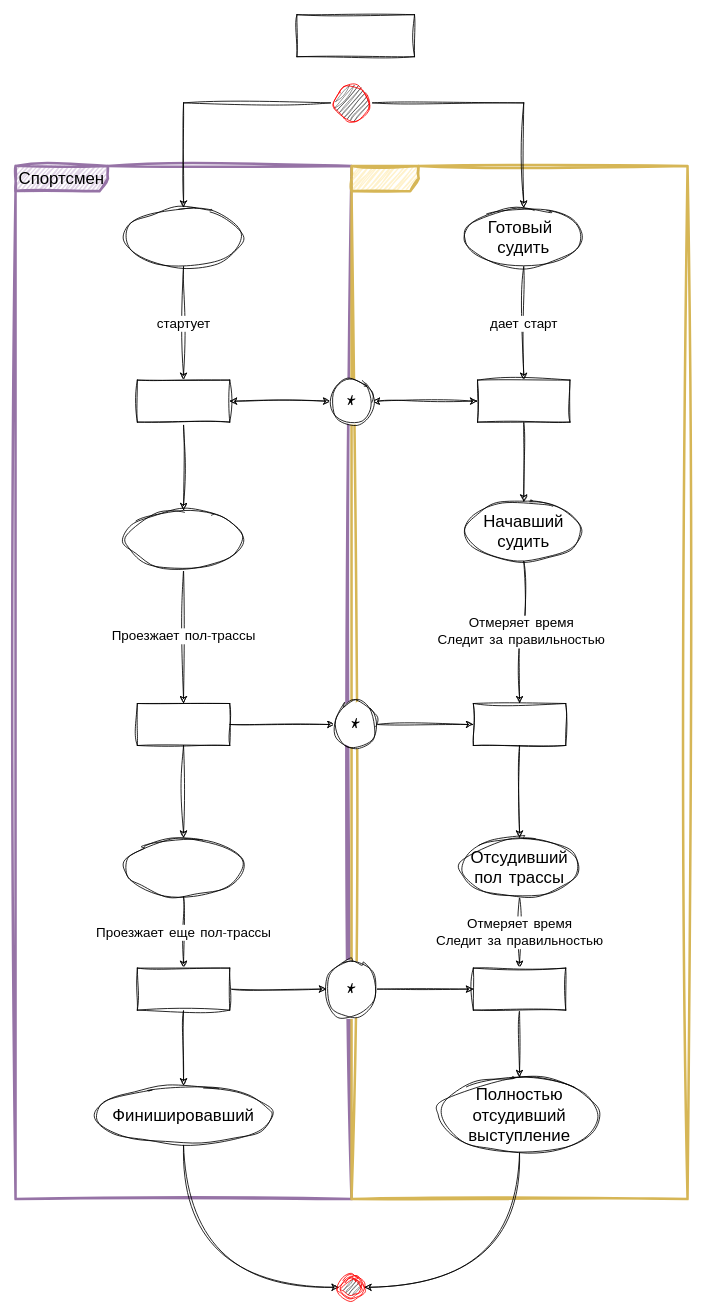
The diagram is 703 pixels wide and 1315 high, and some of its shapes have lost their labels. The box of each missing label's shape, as (x1, y1, x2, y2) in pixels:
Горные лыжи: (296, 14, 415, 57)
Готовый к выступлению: (124, 207, 242, 267)
Проехавший пол трассы: (124, 837, 242, 897)
Стартовавший: (124, 509, 242, 569)
Судьи: (350, 164, 688, 1200)
